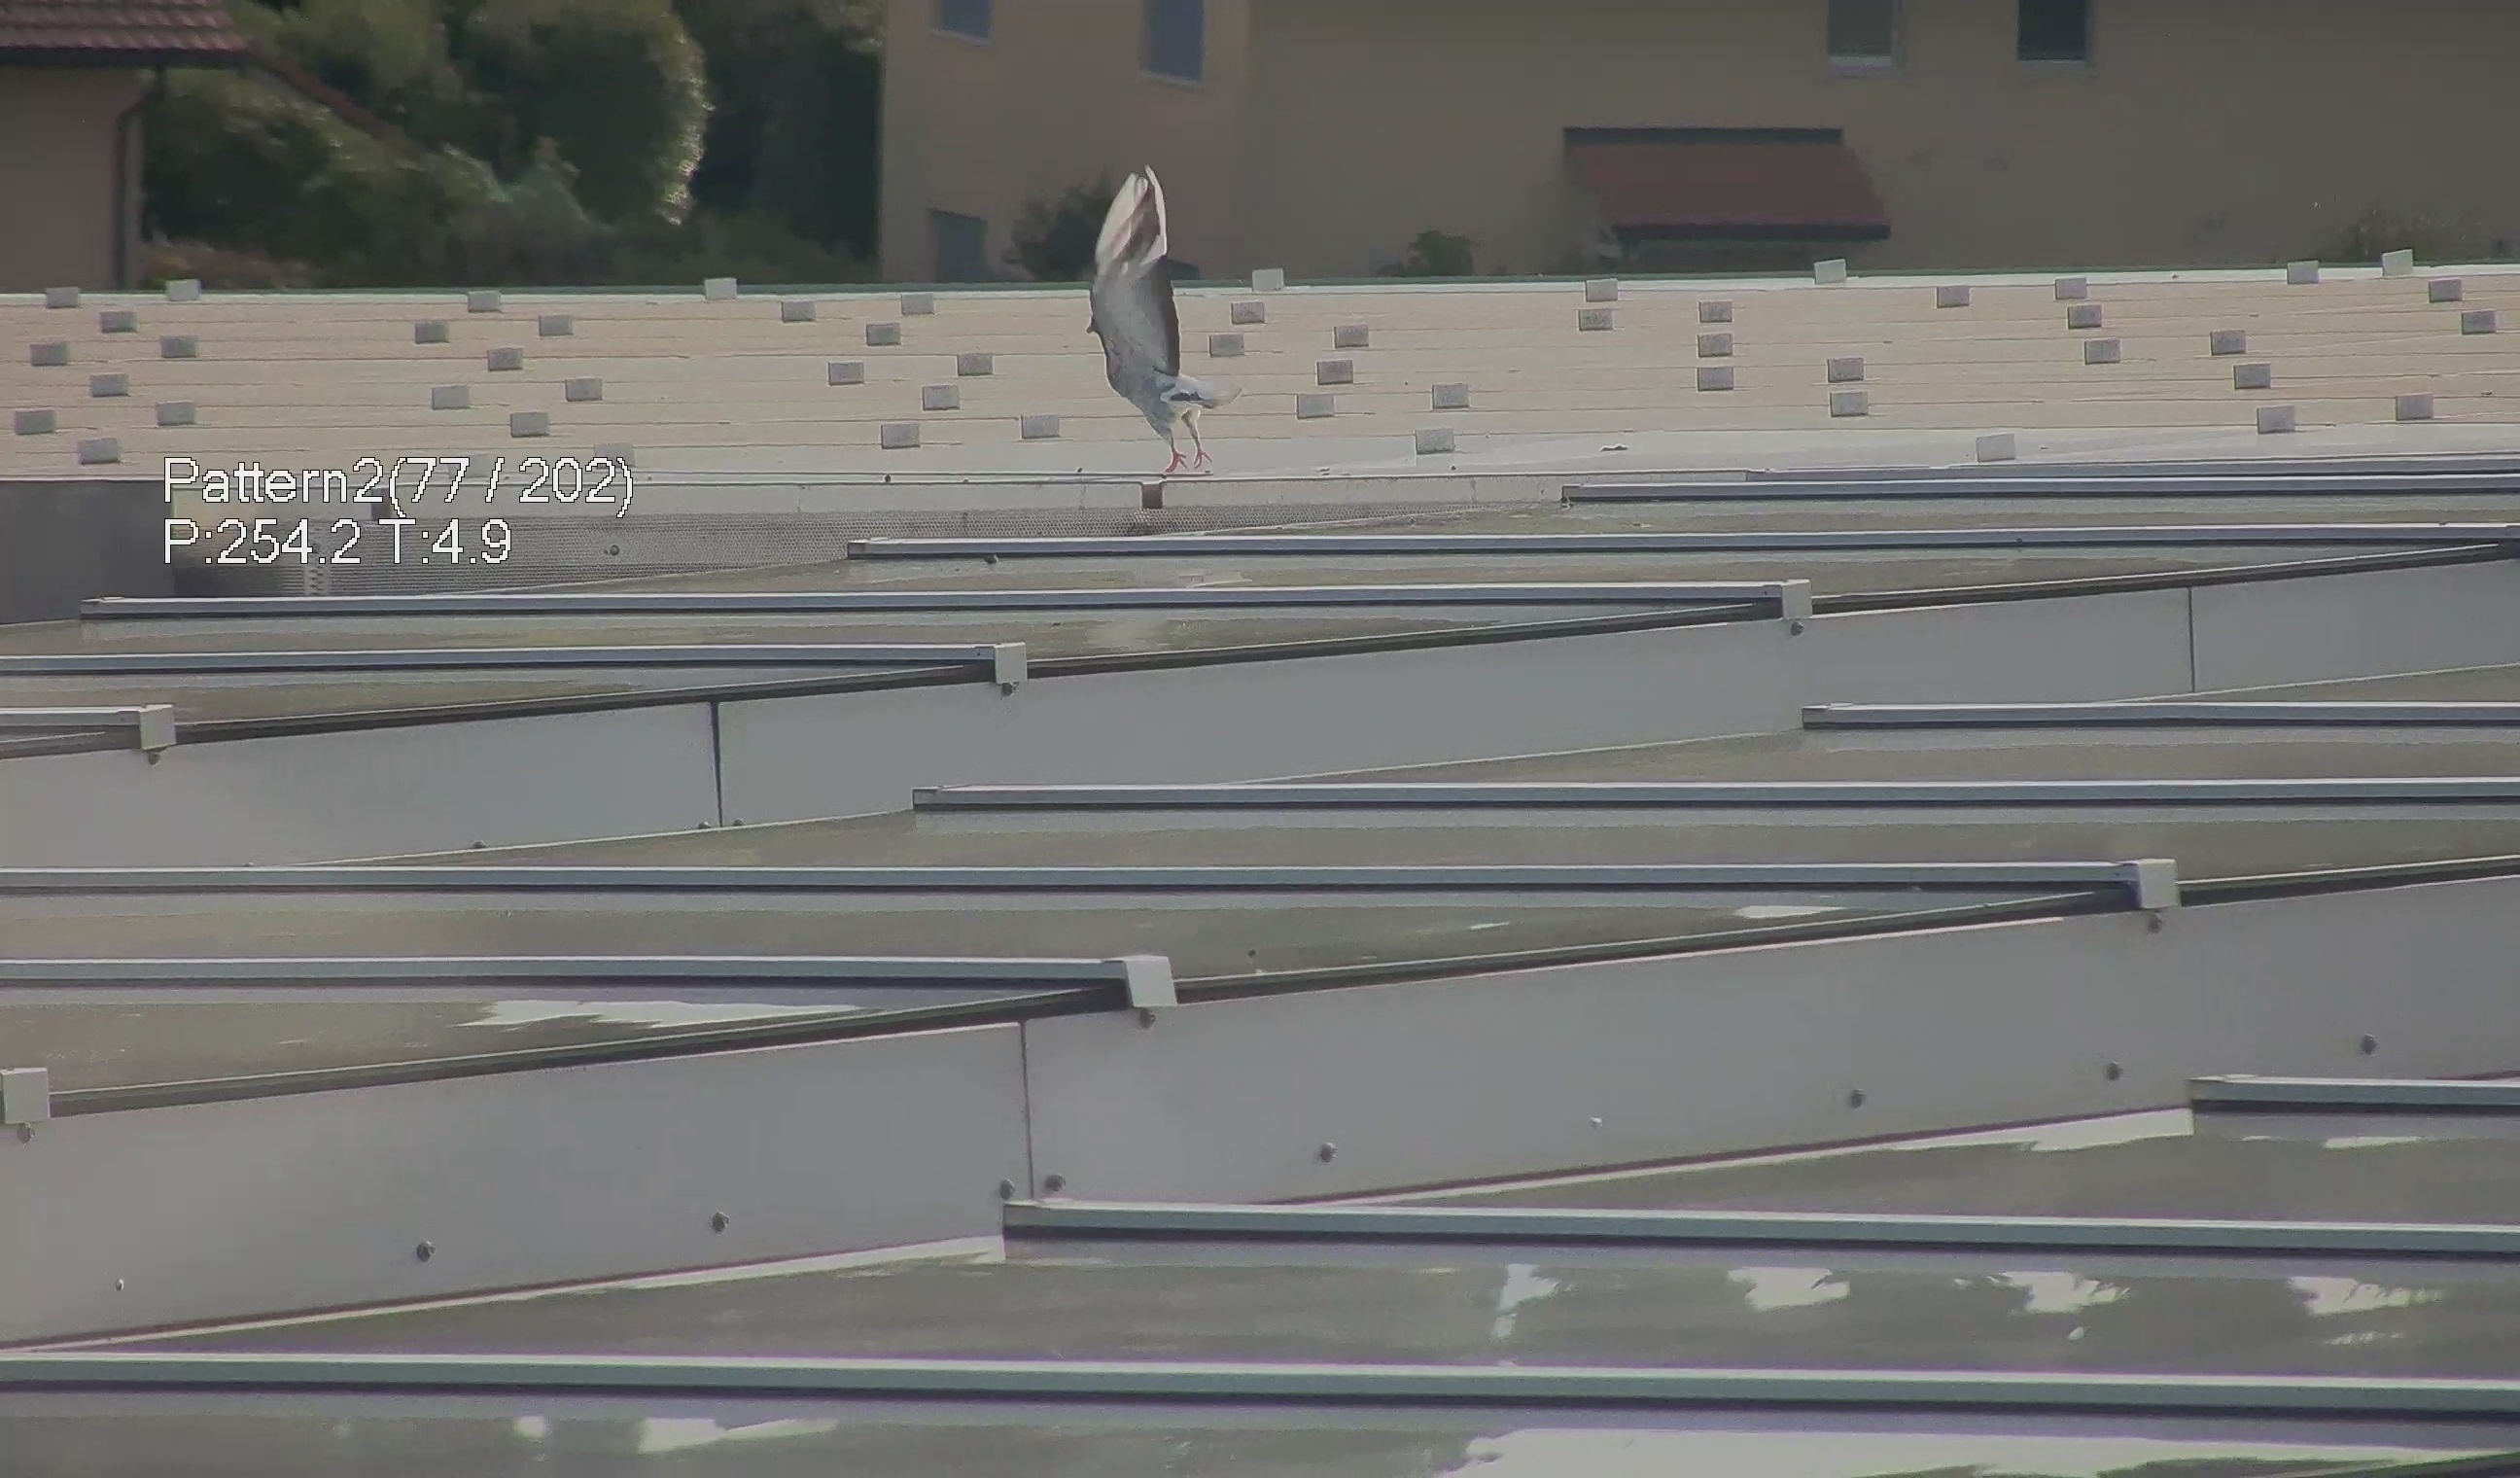Pigeon: (1085, 144, 1208, 450)
